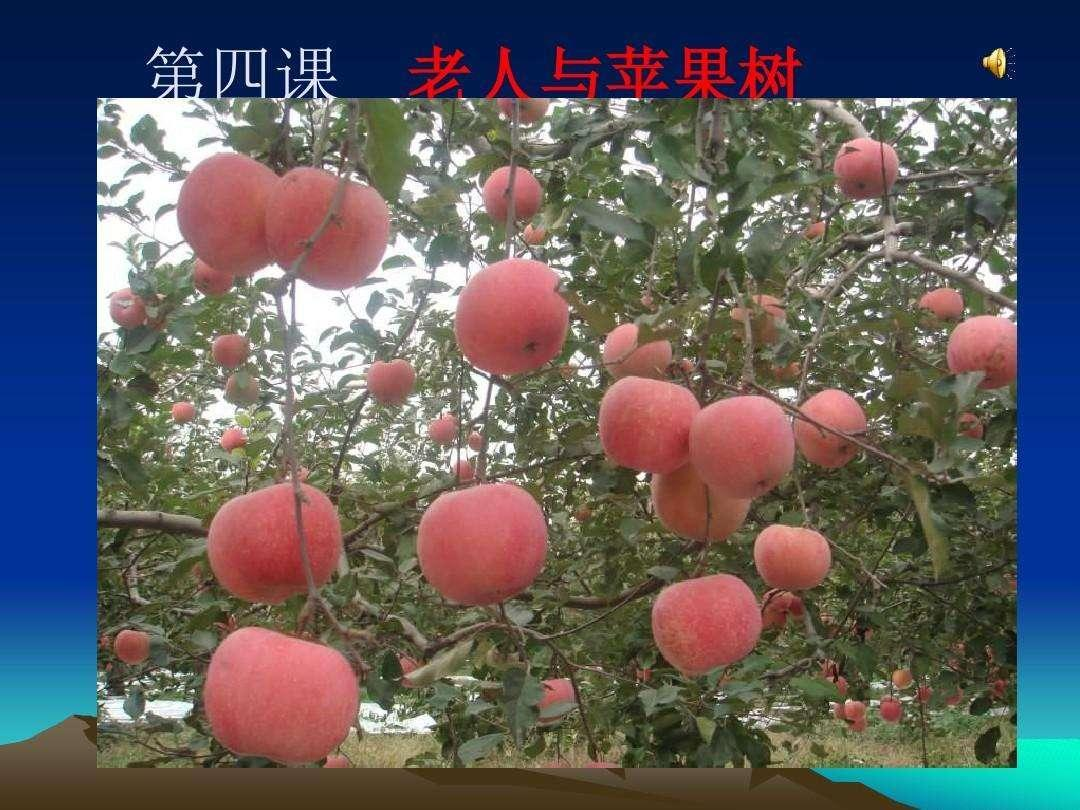apple: (199, 626, 359, 765), (197, 624, 357, 763), (203, 474, 341, 608), (414, 483, 547, 609), (263, 166, 389, 289), (177, 151, 281, 284), (455, 257, 568, 373), (688, 394, 796, 500), (654, 572, 763, 675), (602, 377, 699, 474), (795, 385, 868, 467), (750, 526, 833, 593), (948, 315, 1015, 389), (832, 137, 899, 200), (479, 165, 540, 228), (365, 358, 414, 403)
